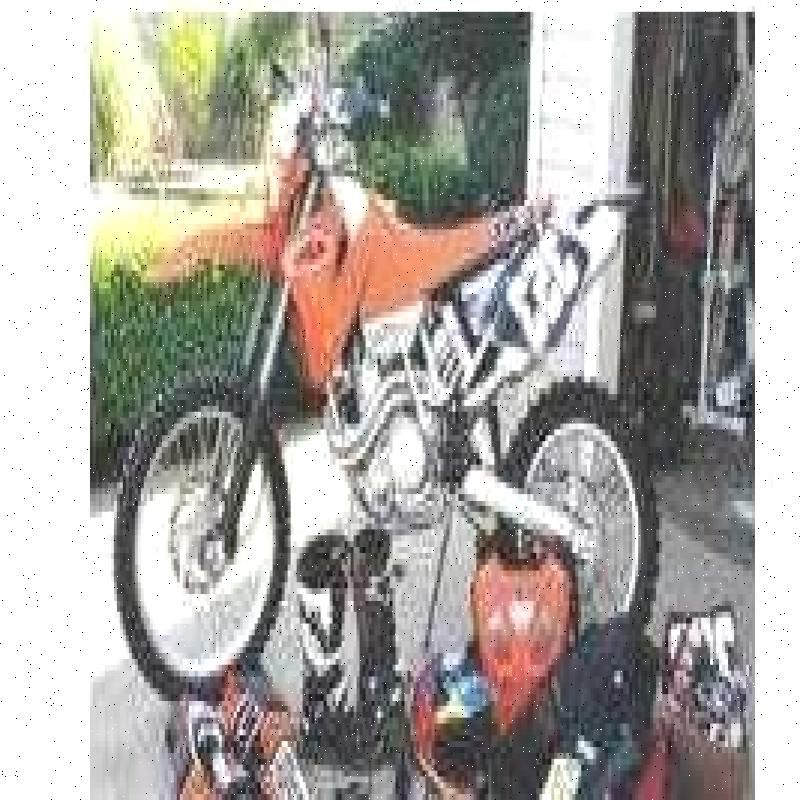bike: (120, 45, 653, 679)
